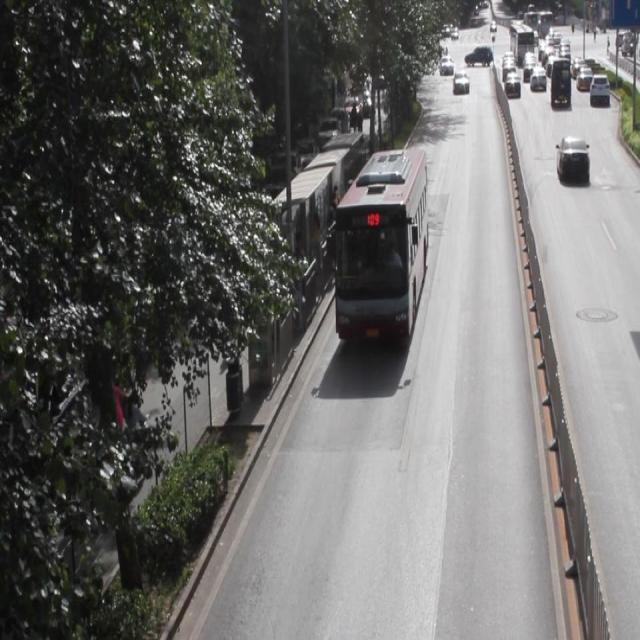car: (556, 134, 588, 180)
van: (336, 148, 426, 339)
